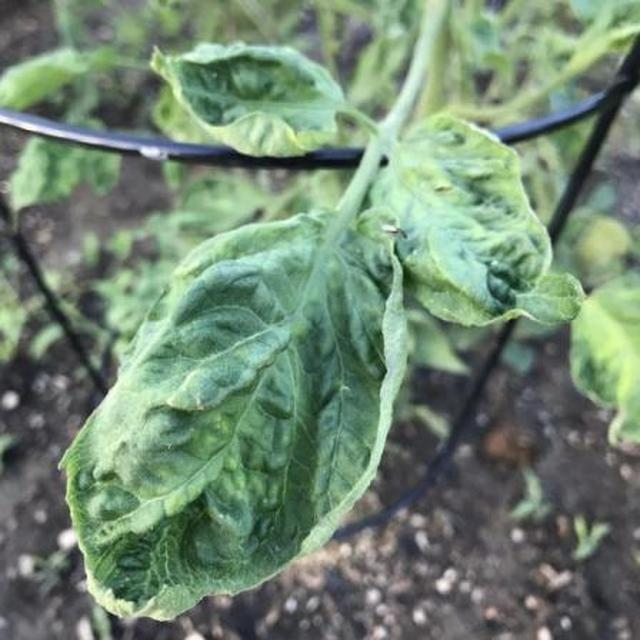Mosaic Virus Leaf: (285, 139, 640, 598)
